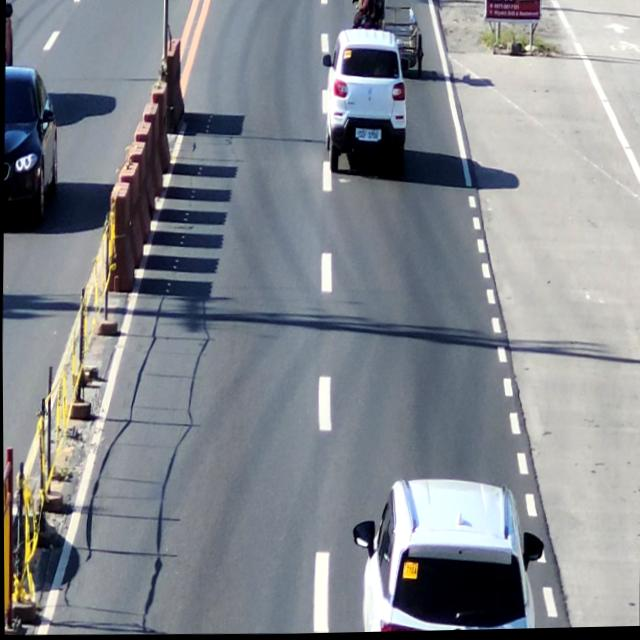Car: (347, 461, 538, 634), (316, 26, 411, 180)
License-Plate: (355, 128, 379, 146)
